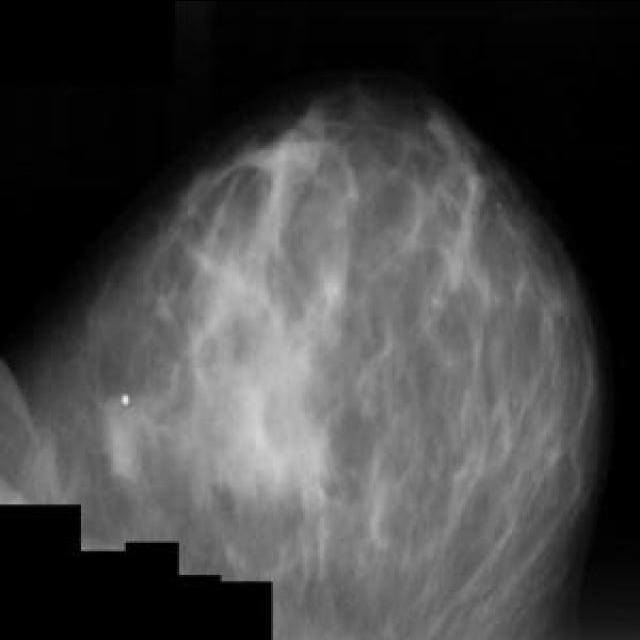tumor: (88, 294, 386, 503)
